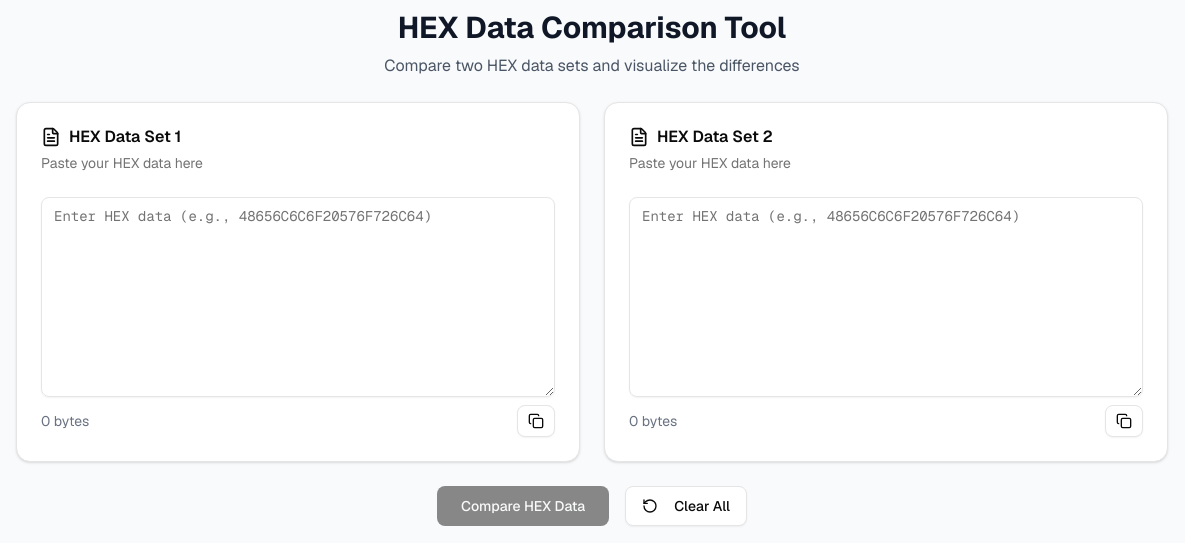
HexCompare component › enables the Compare button only when both inputs have value
Expected: the button "Compare HEX Data" is disabled, [437, 486, 609, 526]
Type "AABBCC" into the text box with placeholder "Enter HEX data (e.g., 48656C6C6F20576F726C64)" below "HEX Data Set 1". click: coordinates (298, 297)
box: [41, 197, 555, 397]
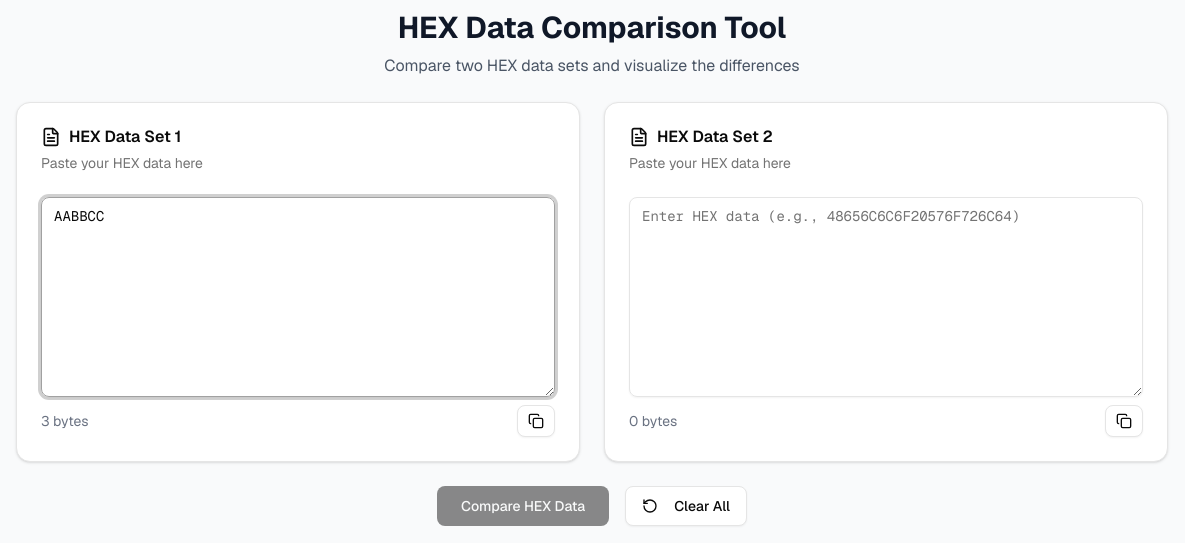
Type "AABBCC" into the text box with placeholder "Enter HEX data (e.g., 48656C6C6F20576F726C64)". click: coordinates (886, 297)
box: [629, 197, 1143, 397]
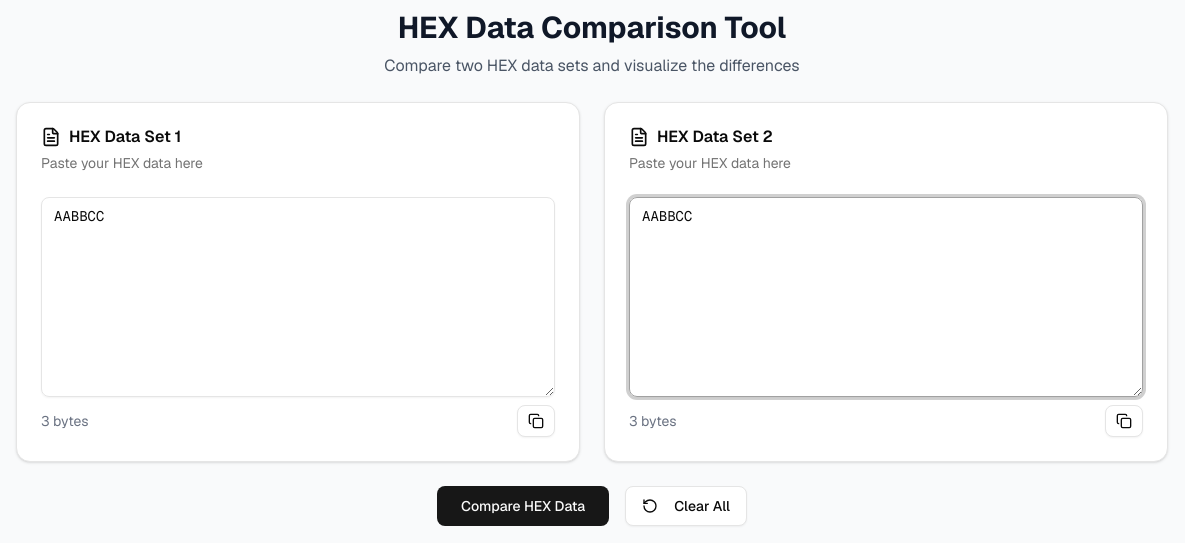
Expected: the button "Compare HEX Data" is enabled, [437, 486, 609, 526]
